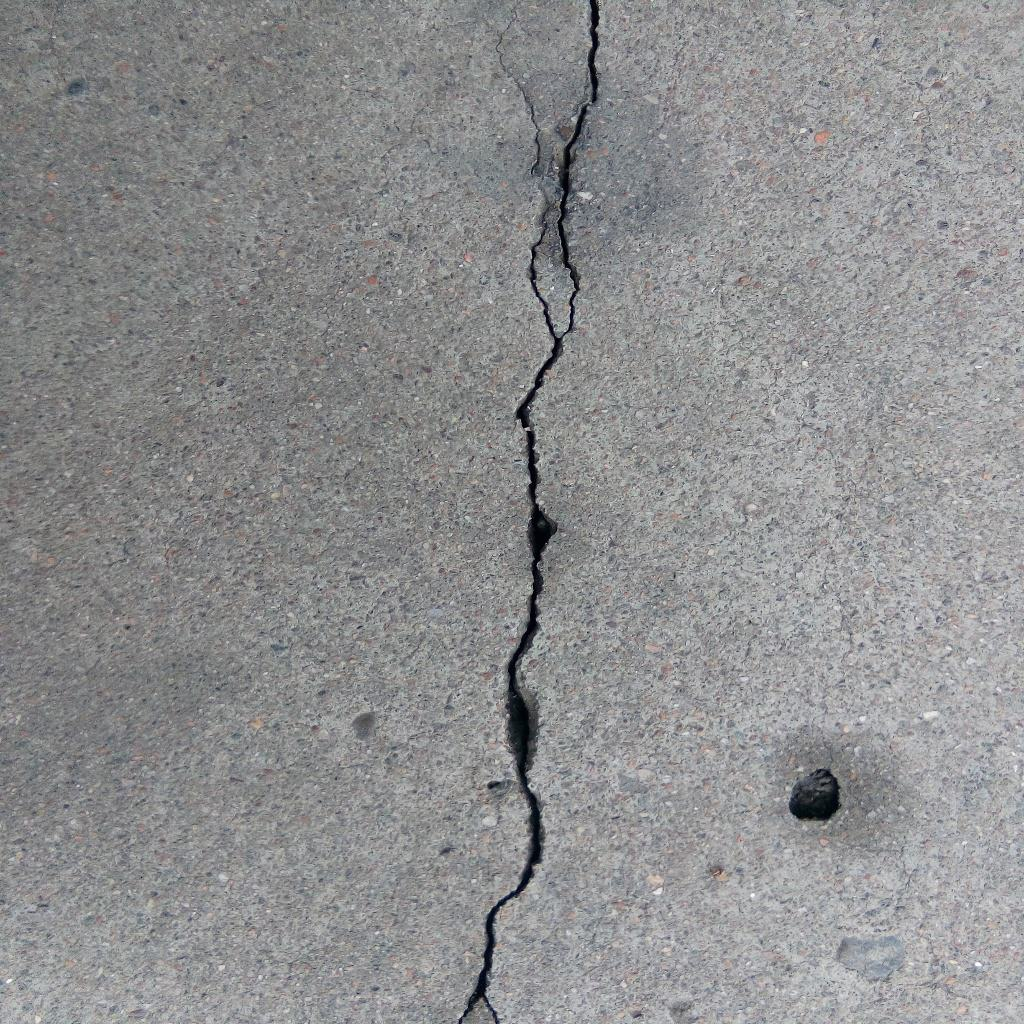Crack: (458, 1, 603, 1024)
Spalling: (788, 767, 842, 822)
